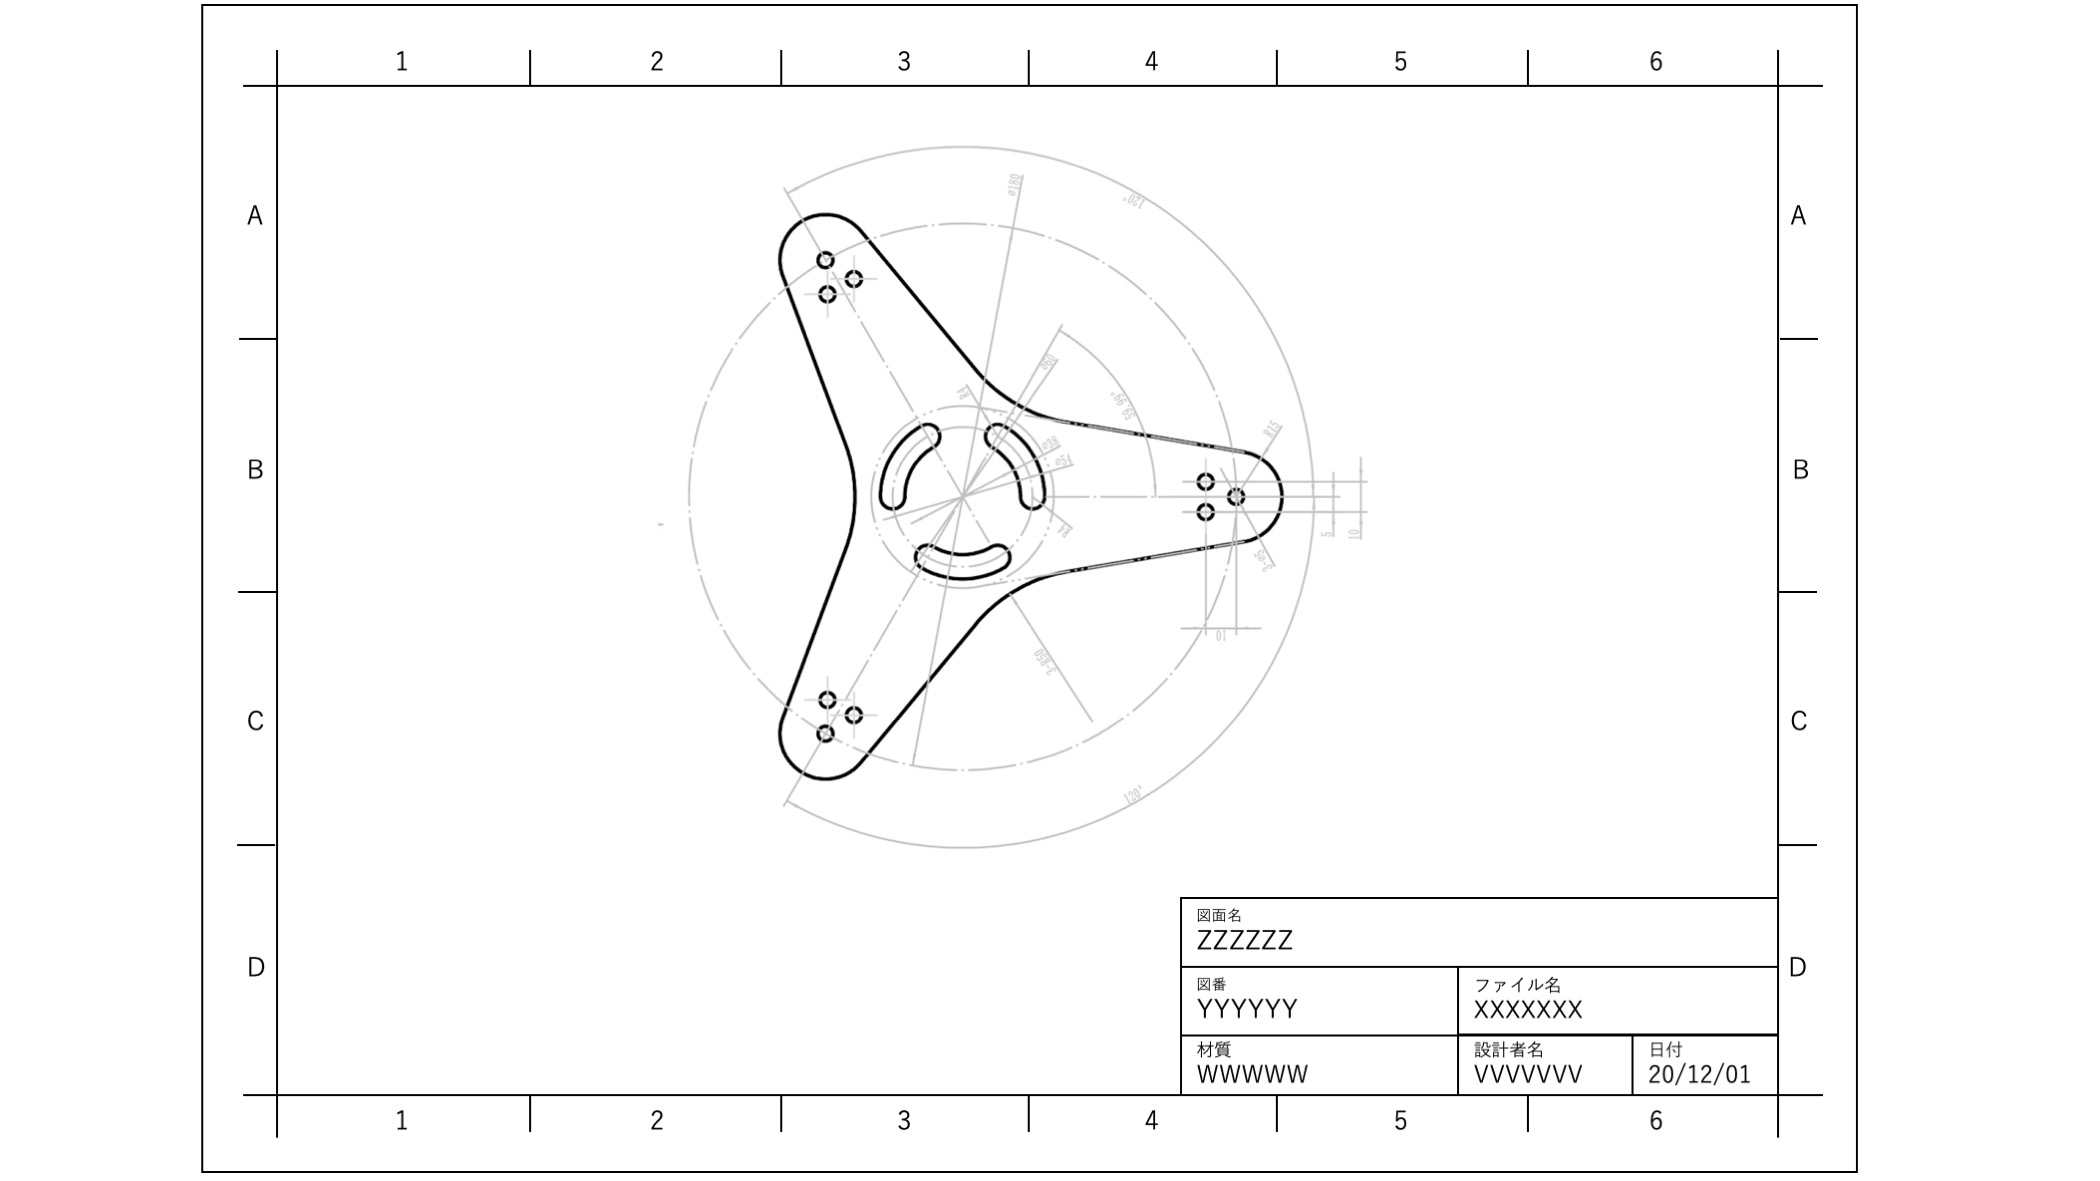circle: (800, 717, 847, 748), (1213, 477, 1258, 508), (800, 275, 842, 301), (1188, 496, 1219, 531), (811, 679, 842, 709), (803, 241, 839, 264), (842, 699, 870, 730), (834, 262, 861, 290), (1191, 459, 1214, 487)
round_rectangle: (976, 420, 1049, 513), (909, 531, 1015, 583), (875, 415, 939, 502)
